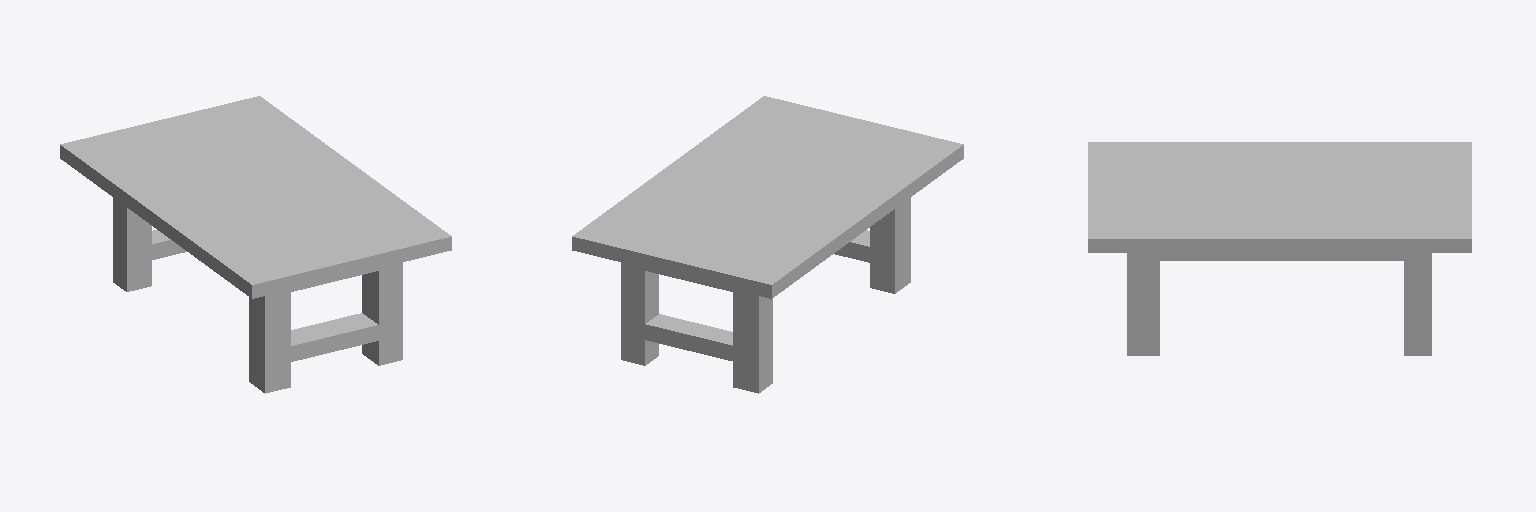
Rendered from Tisch.obj.
3 views of the same model, side by side, from view 1: azimuth 30°, elevation 25°; view 2: azimuth 150°, elevation 25°; view 3: azimuth 270°, elevation 25° (orthographic).
Visible parts, largest first — view 1: Cube_Cube.001; view 2: Cube_Cube.001; view 3: Cube_Cube.001.
Boxes of the visible parts, box(x1,y1,x2,y2) form: Cube_Cube.001: box(60, 96, 451, 393); Cube_Cube.001: box(572, 96, 963, 393); Cube_Cube.001: box(1088, 142, 1471, 355).
Size of the model in its own units: 3 by 1.88 by 5.